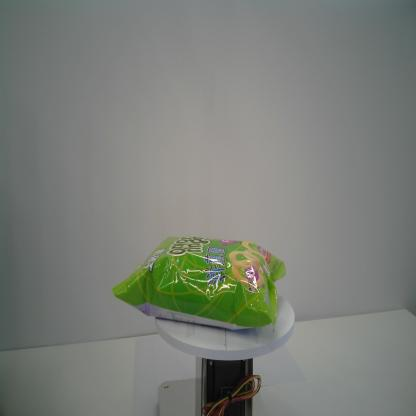Puffed Food: (111, 235, 287, 332)
